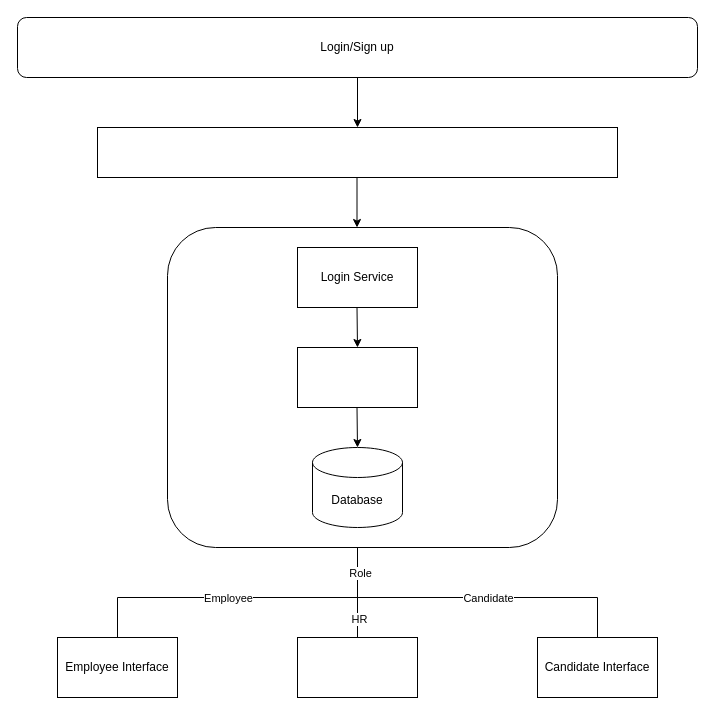
Image size: 715x715. Some labels were removed from this diagram. The box of each missing label's shape, as (x1, y1, x2, y2) in pixels:
API Gateway: (96, 126, 618, 178)
HR Interface: (296, 636, 418, 698)
Repository: (296, 346, 418, 408)
